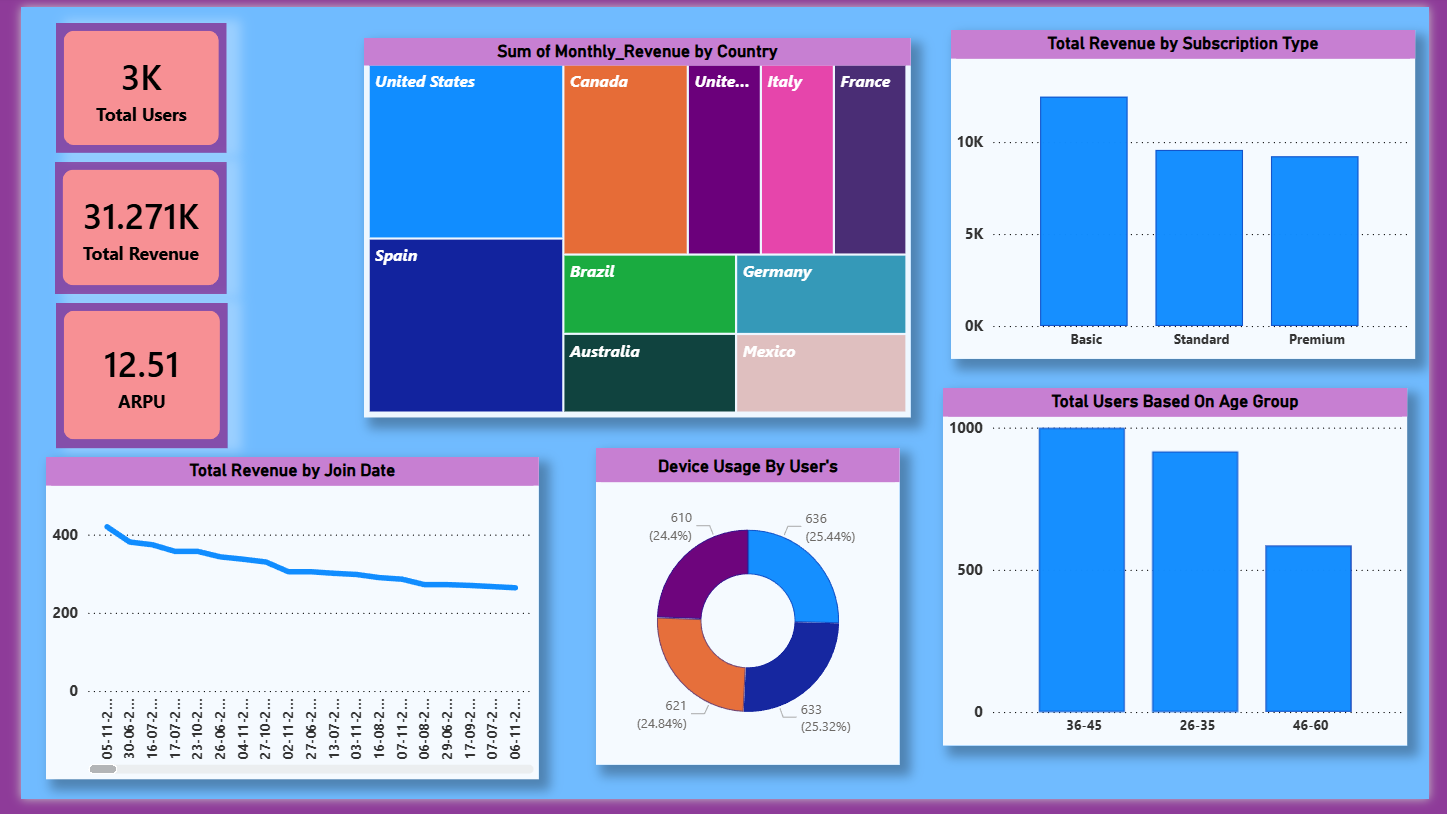

This screenshot's page, from the dashboard's own definition file:
{"tool":"powerbi","page":{"name":"Userbase Analysis","canvas":[1280,720],"ordinal":0},"visuals":[{"type":"cardVisual","fields":{"Data":["netflix_db userbase.Total Revenue"]},"box":[30.9,140.9,156.4,120],"z":0},{"type":"cardVisual","fields":{"Data":["netflix_db userbase.Total Users"]},"box":[31.8,14.5,155.5,118.2],"z":1000},{"type":"cardVisual","fields":{"Data":["netflix_db userbase.ARPU"]},"box":[31.8,269.1,156.4,131.8],"z":2000},{"type":"clusteredColumnChart","title":"Total Revenue by Subscription Type","fields":{"Category":["netflix_db userbase.Subscription_Type"],"Y":["netflix_db userbase.Total Revenue"]},"box":[845.5,20.9,421.8,299.1],"z":3000},{"type":"treemap","fields":{"Group":["netflix_db userbase.Country"],"Values":["Sum(netflix_db userbase.Monthly_Revenue)"]},"box":[311.8,28.2,497.3,344.5],"z":4000},{"type":"donutChart","title":"Device Usage By User''s","fields":{"Category":["netflix_db userbase.Device"],"Y":["netflix_db userbase.Total Users"]},"box":[522.7,400.9,276.4,288.2],"z":5000},{"type":"lineChart","title":"Total Revenue by Join Date","fields":{"Category":["netflix_db userbase.Join_Date"],"Y":["netflix_db userbase.Total Revenue"]},"box":[22.7,409.1,448.2,292.7],"z":6000},{"type":"columnChart","title":"Total Users Based On Age Group","fields":{"Category":["netflix_db userbase.Age_Group"],"Y":["netflix_db userbase.Total Users"]},"box":[838.2,346.4,421.8,324.5],"z":7000}]}

Visuals, with their boxes in screenshot pixels (x1, y1, x2, y2), scaled from the page's 1280x720 canvas onto the 1447x814 screenshot:
cardVisual - netflix_db userbase.Total Revenue: bbox(35, 159, 212, 295)
cardVisual - netflix_db userbase.Total Users: bbox(36, 16, 212, 150)
cardVisual - netflix_db userbase.ARPU: bbox(36, 304, 213, 453)
"Total Revenue by Subscription Type" clusteredColumnChart: bbox(956, 24, 1433, 362)
treemap - netflix_db userbase.Country x Sum(netflix_db userbase.Monthly_Revenue): bbox(352, 32, 915, 421)
"Device Usage By User''s" donutChart: bbox(591, 453, 903, 779)
"Total Revenue by Join Date" lineChart: bbox(26, 463, 532, 793)
"Total Users Based On Age Group" columnChart: bbox(948, 392, 1424, 758)
